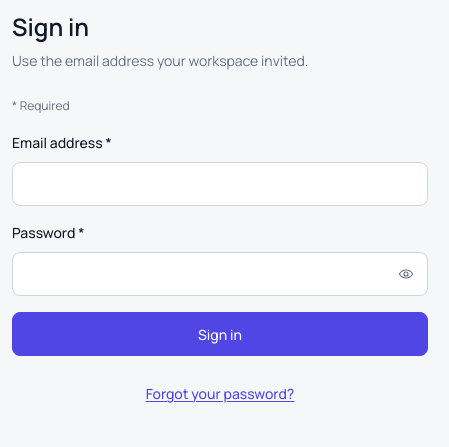
Test: LoginForm › rejects a malformed address before the round trip
Type "not-an-address" into the field labelled "Email address *" at (220, 184), box [12,162,428,206]
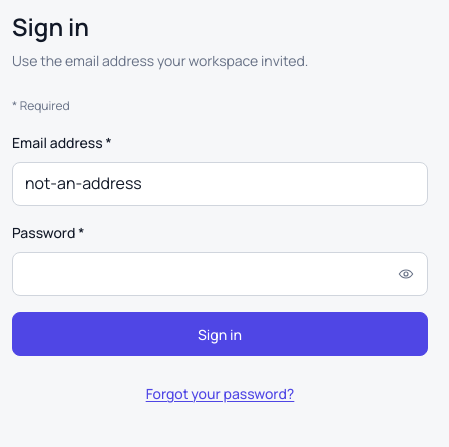
Type "correct horse battery" into the password field labelled "Password *" at (220, 274), box [12,252,428,296]
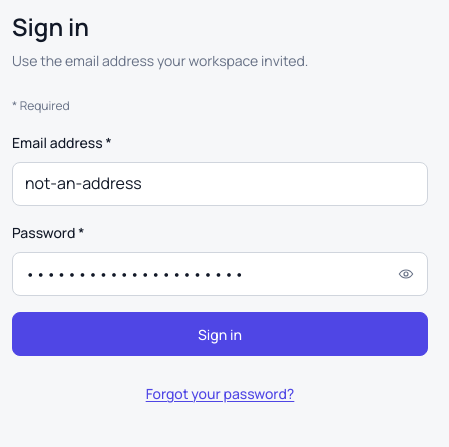
Click the button "Sign in" at (220, 334), box [12,312,428,356]
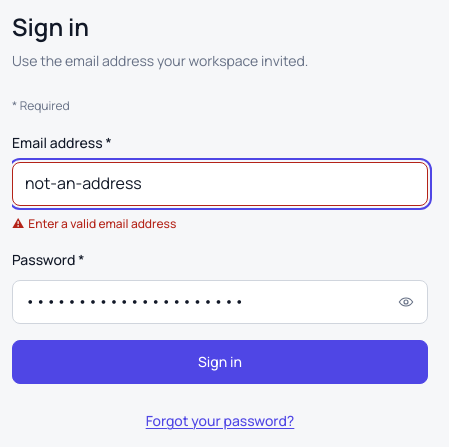
Expected: the text "Enter a valid email address" is shown, [28,215,176,232]
